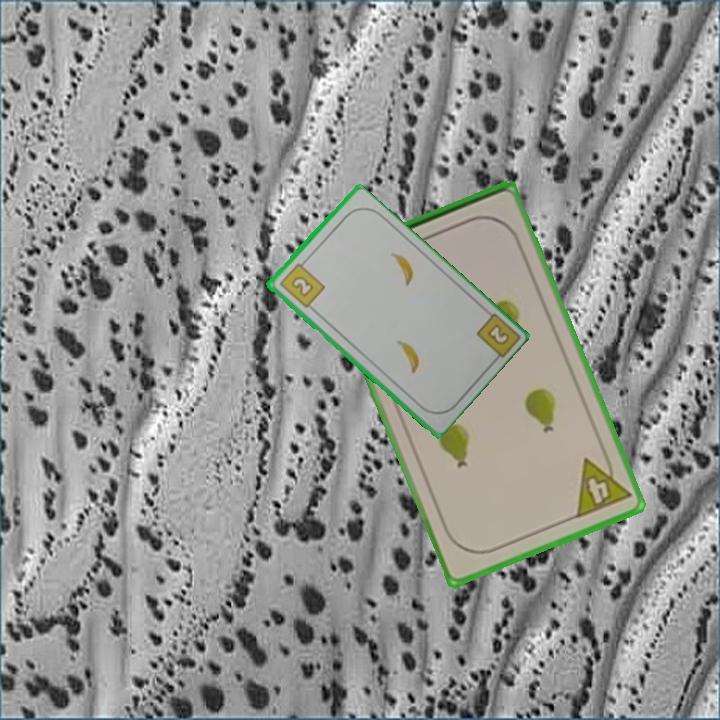2b: (276, 256, 327, 311), (483, 320, 512, 348)
4p: (572, 447, 634, 522)
